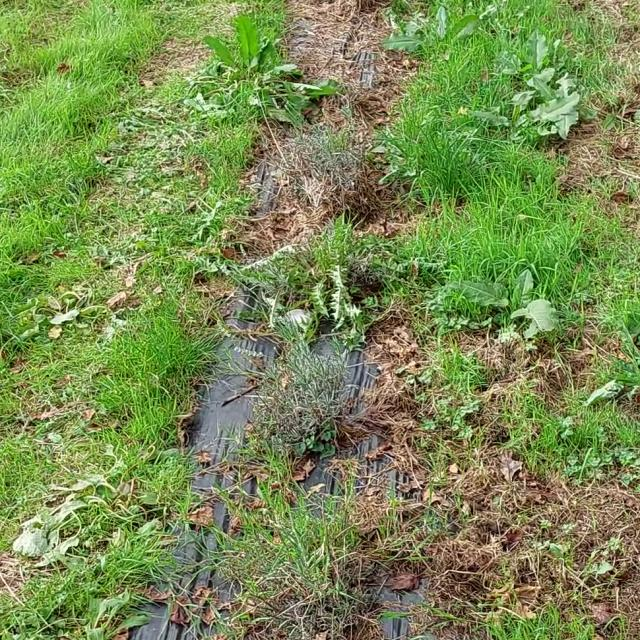organic waste: (185, 12, 340, 153), (28, 468, 147, 578), (365, 0, 498, 80), (439, 260, 563, 338), (449, 82, 568, 162), (477, 14, 587, 93), (507, 68, 598, 146), (26, 271, 114, 349)
